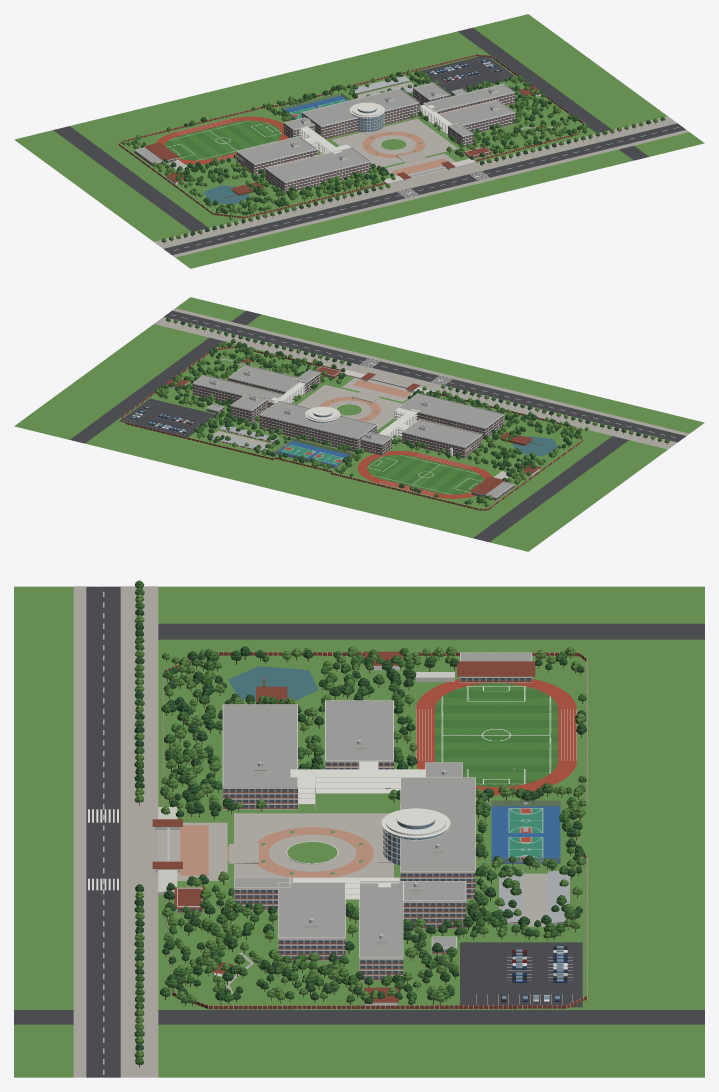
Rendered from reality-highschool.glb.
The picture shows the model from 3 angles, top to bottom: view 1: azimuth 30°, elevation 25°; view 2: azimuth 150°, elevation 25°; view 3: azimuth 270°, elevation 25°; orthographic projection. The views are drawn at different scales.
Visible parts, largest first — view 1: plane, plane.001, plane.002, R07_field, plane.004, plane.005, plane.003, plane.006, plane.013, box.105, box.080, R03_main (+13 smaller); view 2: plane, plane.001, plane.002, R07_field, plane.004, plane.005, plane.003, plane.013, box.105, box.080, R07_track, R03_main (+13 smaller); view 3: plane, plane.001, plane.002, R07_field, plane.005, plane.004, plane.003, plane.013, box.105, box.080, plane.006, R07_track (+22 smaller).
Part boxes in pixels (box(x1,y1,x2,y2)): plane: box(14, 14, 704, 268); plane.001: box(164, 123, 685, 255); plane.002: box(154, 116, 677, 248); R07_field: box(164, 120, 281, 160); plane.004: box(458, 27, 648, 160); plane.005: box(53, 126, 208, 231); plane.003: box(172, 130, 689, 257); plane.006: box(331, 118, 457, 167); plane.013: box(419, 55, 516, 94); box.105: box(267, 148, 369, 181); box.080: box(303, 89, 417, 125); R03_main: box(302, 103, 419, 139); plane: box(14, 297, 704, 551); plane.001: box(164, 310, 685, 442); plane.002: box(154, 317, 677, 449); R07_field: box(367, 455, 484, 494); plane.004: box(70, 310, 260, 443); plane.005: box(473, 436, 628, 542); plane.003: box(172, 308, 689, 435); plane.013: box(119, 398, 215, 437); box.105: box(400, 394, 502, 427); box.080: box(261, 401, 375, 438); R07_track: box(357, 451, 492, 498); R03_main: box(259, 415, 376, 451); plane: box(14, 586, 704, 1077); plane.001: box(86, 586, 120, 1077); plane.002: box(120, 586, 158, 1077); R07_field: box(435, 683, 557, 786); plane.005: box(158, 623, 704, 639); plane.004: box(14, 1010, 704, 1024); plane.003: box(73, 586, 86, 1077); plane.013: box(460, 942, 582, 1007); box.105: box(223, 706, 297, 786); box.080: box(401, 779, 474, 870); plane.006: box(234, 813, 393, 882); R07_track: box(416, 679, 576, 794).
Bounding box in the file's own units: 712 × 24.4 × 424.
86 materials, 3 textured.
